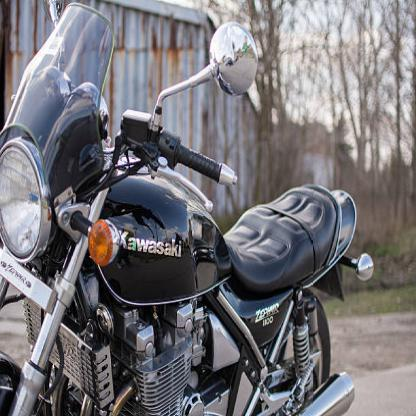Motorcycle: (2, 0, 377, 415)
